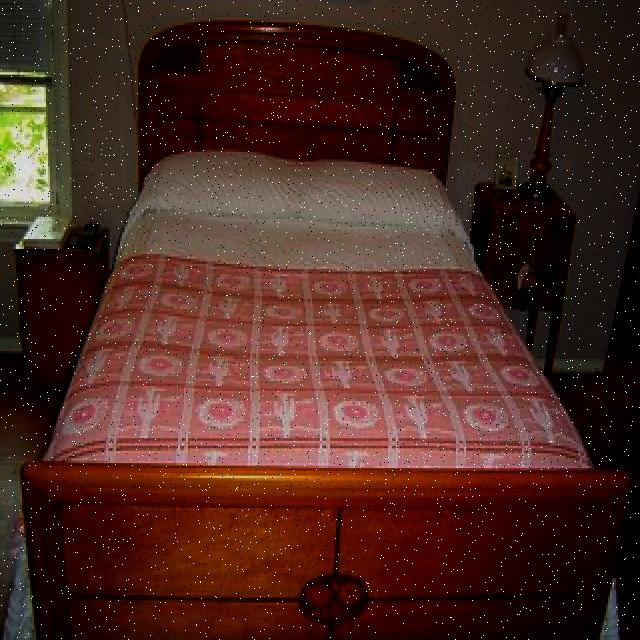bed: (31, 23, 627, 639)
